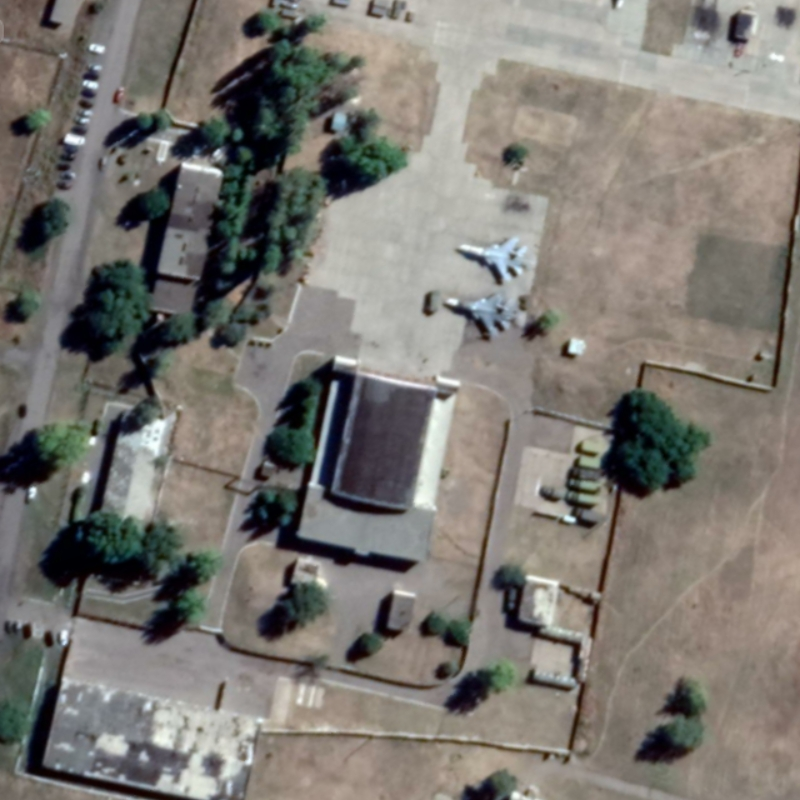A19: (440, 290, 522, 343), (453, 231, 531, 286)
